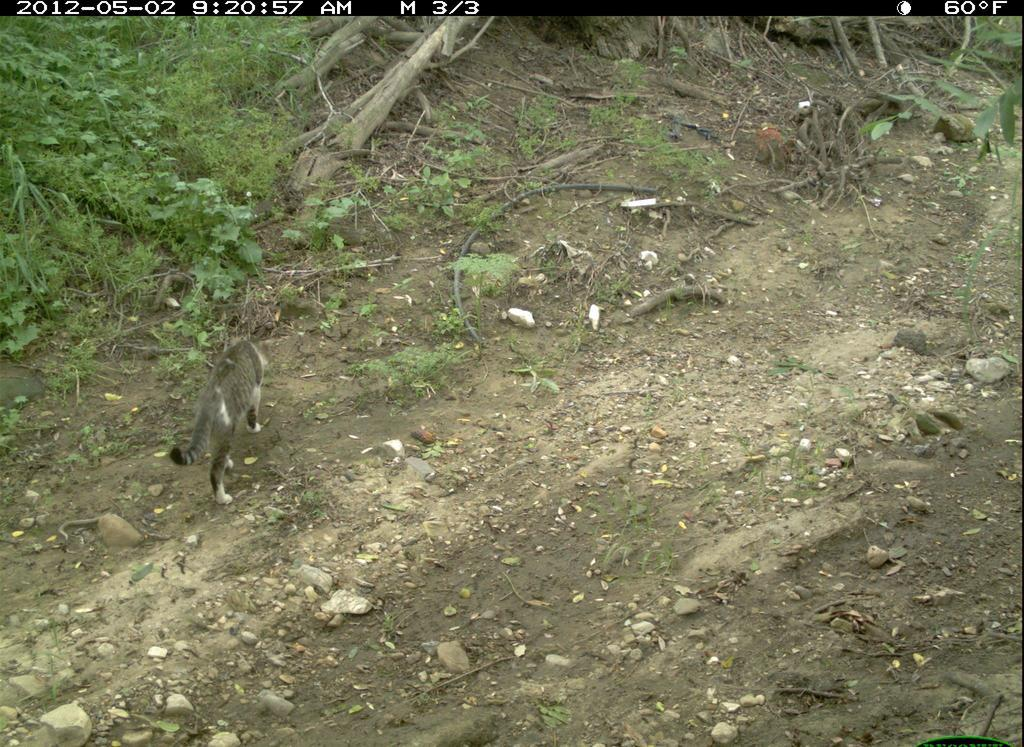cat: (167, 326, 272, 513)
